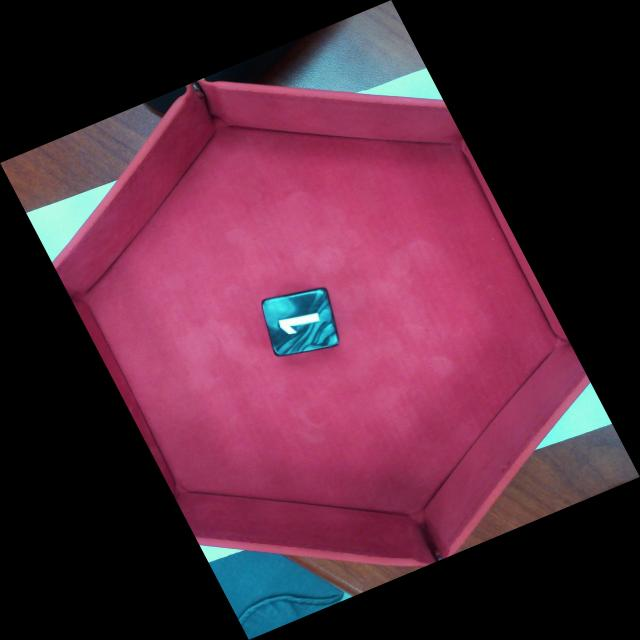dice: (260, 290, 342, 356)
